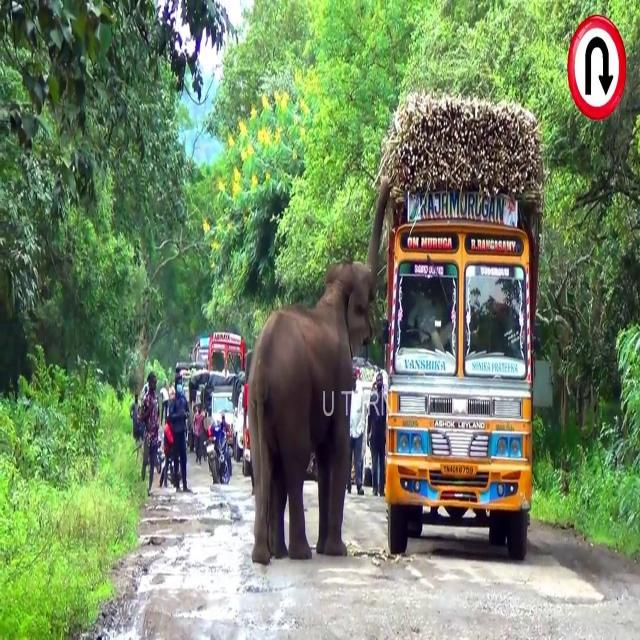Elephant: (247, 176, 391, 567)
